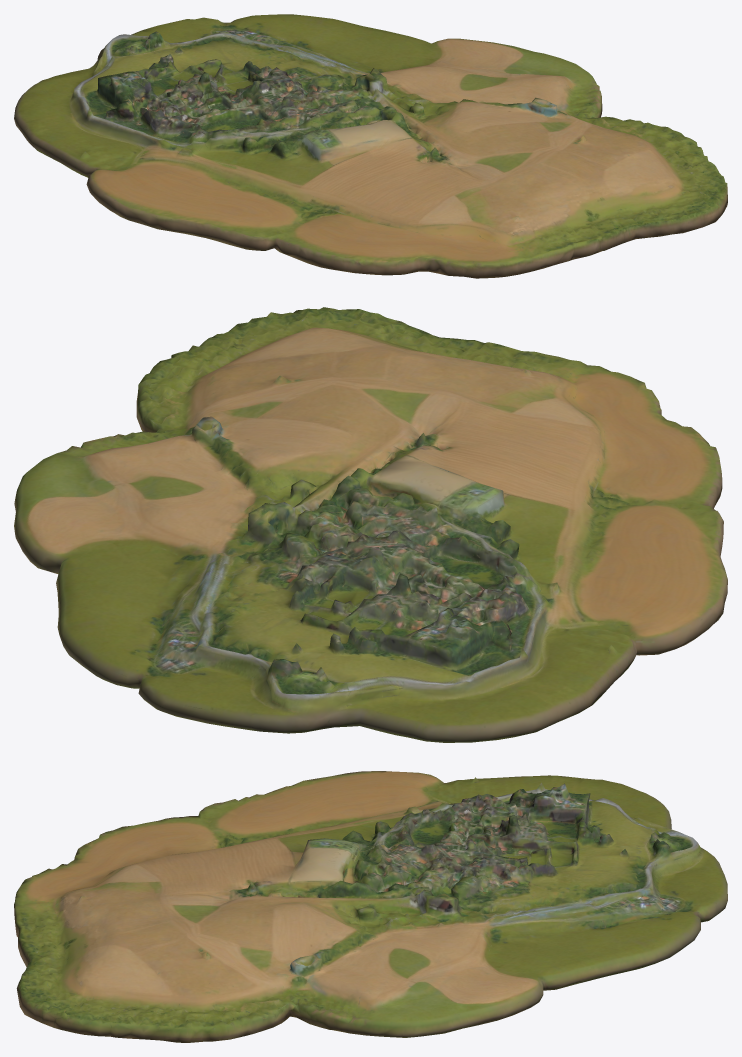
The model's file is Meshy_AI_A_landscape_map_set_o_0206074114_texture.glb.
3 views of the same model, one above another, from view 1: azimuth 30°, elevation 25°; view 2: azimuth 150°, elevation 25°; view 3: azimuth 270°, elevation 25° (orthographic). The views are drawn at different scales.
Parts seen in each view (by area): view 1: Mesh1.0; view 2: Mesh1.0; view 3: Mesh1.0.
Part boxes in pixels (x1=…): Mesh1.0: x1=14, y1=14, x2=727, y2=278; Mesh1.0: x1=14, y1=307, x2=727, y2=742; Mesh1.0: x1=14, y1=771, x2=727, y2=1042.
Bounding box in the file's own units: 1.73 × 0.1757 × 2.01.
1 material, 1 textured.
